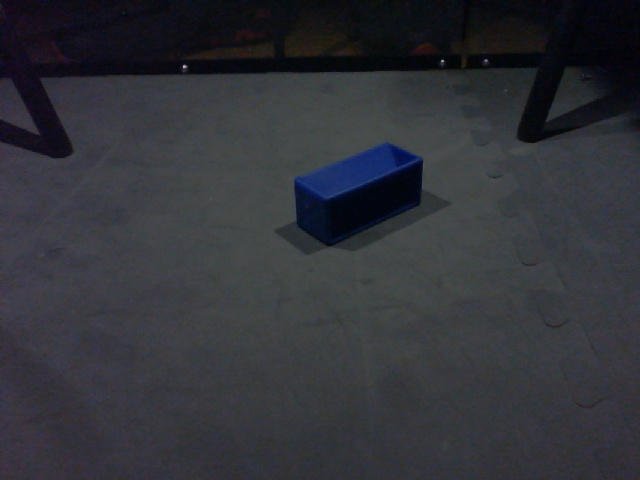BlueSample: (292, 140, 424, 249)
